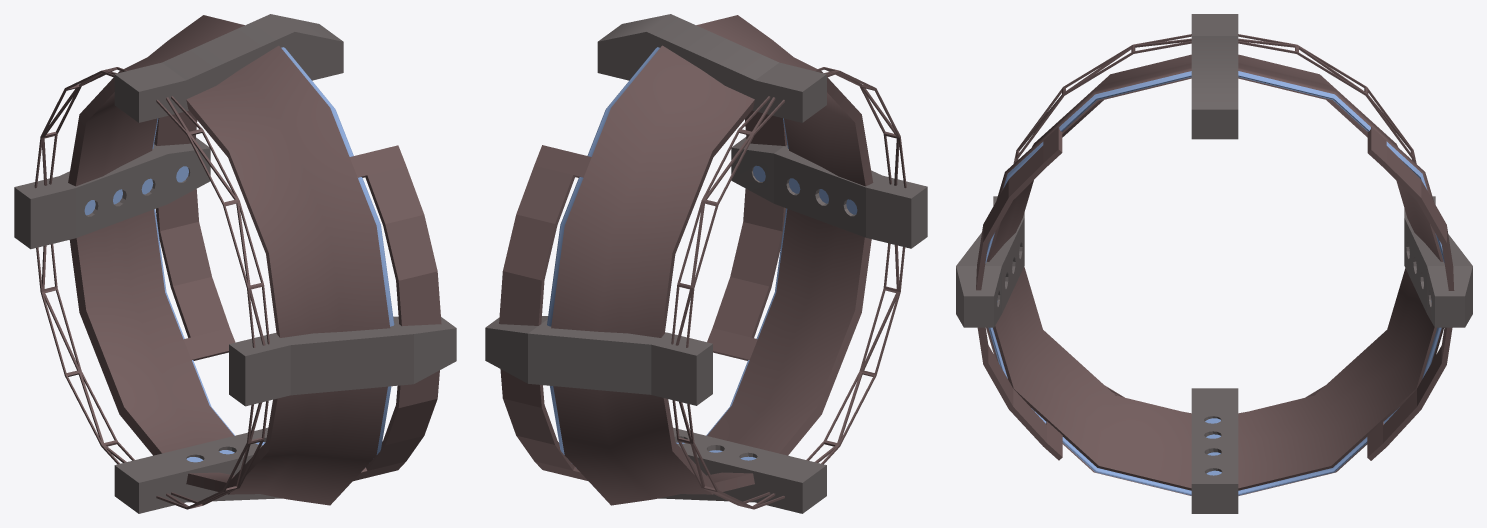
File: maya2sketchfab.fbx
3 views of the same model, side by side, from view 1: azimuth 30°, elevation 25°; view 2: azimuth 150°, elevation 25°; view 3: azimuth 270°, elevation 25° (orthographic). The views are drawn at different scales.
Visible parts, largest first — view 1: pCylinder1, pCube5, pCylinder14, pCube7, pCube6, pCylinder17, pCylinder13, pCube8; view 2: pCylinder1, pCube7, pCylinder13, pCube5, pCube6, pCylinder17, pCylinder14, pCube8; view 3: pCylinder1, pCube8, pCube6, pCylinder13, pCylinder14, pCube7, pCube5, pCylinder17.
Part boxes in pixels (x1=…): pCylinder1: x1=68, y1=15, x2=394, y2=505; pCube5: x1=229, y1=316, x2=456, y2=406; pCylinder14: x1=349, y1=145, x2=441, y2=481; pCube7: x1=14, y1=137, x2=210, y2=249; pCube6: x1=114, y1=14, x2=343, y2=122; pCylinder17: x1=34, y1=67, x2=269, y2=509; pCylinder13: x1=154, y1=110, x2=235, y2=360; pCube8: x1=114, y1=427, x2=282, y2=513; pCylinder1: x1=547, y1=15, x2=873, y2=505; pCube7: x1=485, y1=316, x2=712, y2=405; pCylinder13: x1=499, y1=145, x2=591, y2=481; pCube5: x1=731, y1=137, x2=927, y2=248; pCube6: x1=597, y1=14, x2=826, y2=122; pCylinder17: x1=671, y1=67, x2=906, y2=509; pCylinder14: x1=707, y1=110, x2=787, y2=360; pCube8: x1=659, y1=427, x2=826, y2=513; pCylinder1: x1=985, y1=54, x2=1444, y2=495; pCube8: x1=1191, y1=388, x2=1238, y2=513; pCube6: x1=1191, y1=14, x2=1238, y2=139; pCylinder13: x1=1367, y1=127, x2=1454, y2=460; pCylinder14: x1=976, y1=126, x2=1062, y2=460; pCube7: x1=1404, y1=196, x2=1472, y2=327; pCube5: x1=956, y1=196, x2=1024, y2=327; pCylinder17: x1=1013, y1=34, x2=1416, y2=413.
Size of the model in its own units: 4.27 by 9.28 by 9.74.
